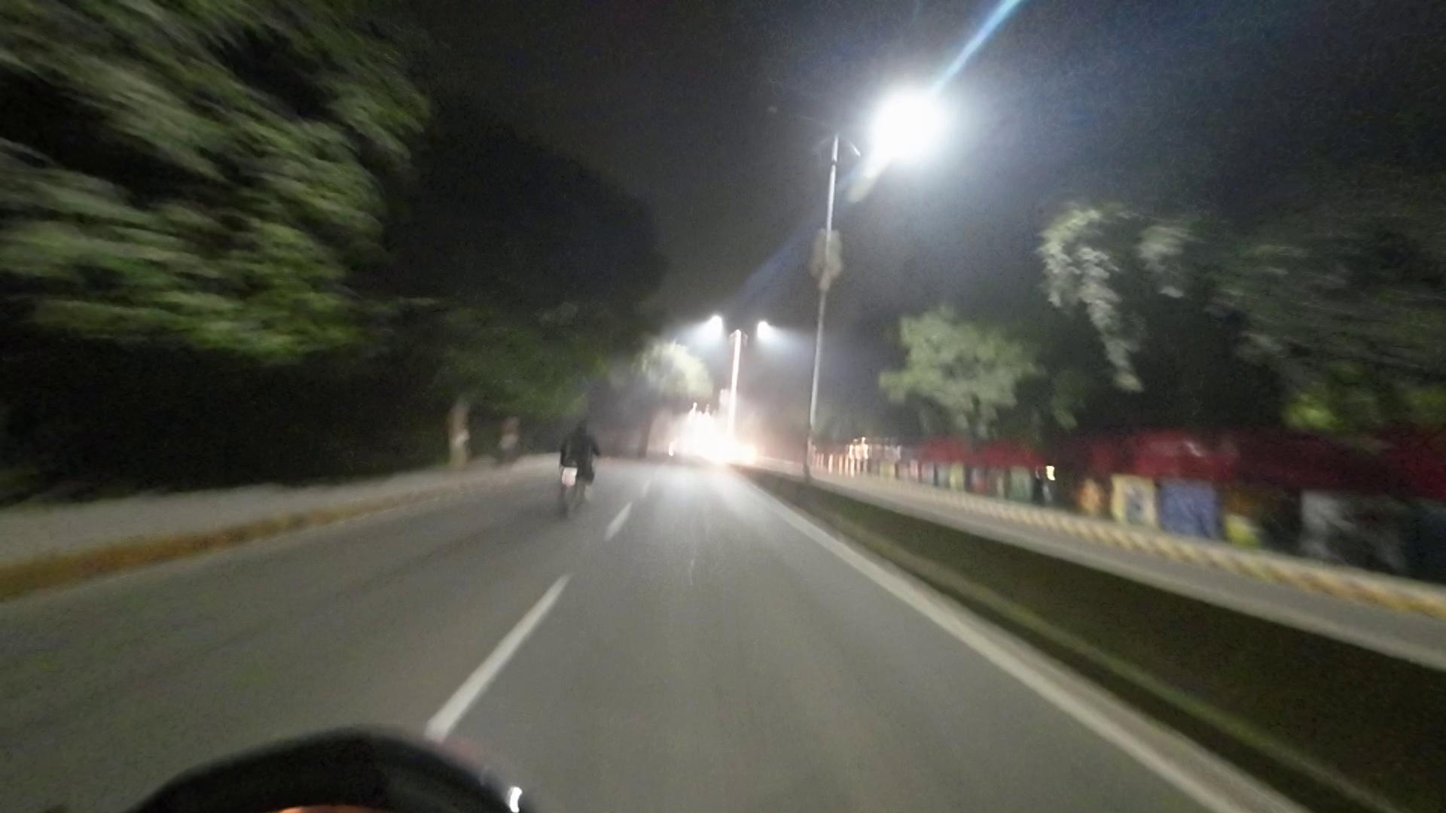streetlight: (762, 101, 826, 134)
